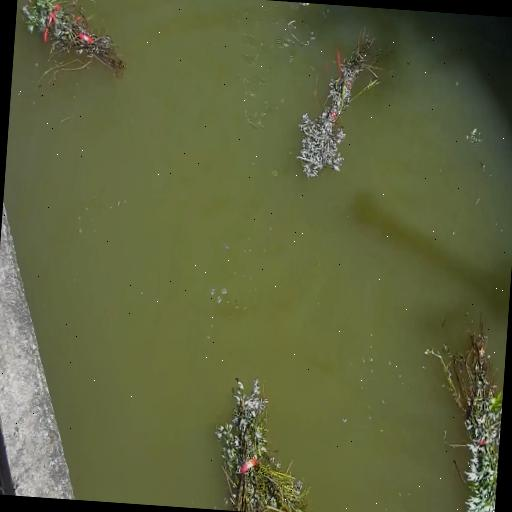twig: (412, 307, 508, 512), (210, 370, 322, 512), (296, 22, 394, 182), (15, 0, 131, 84)
